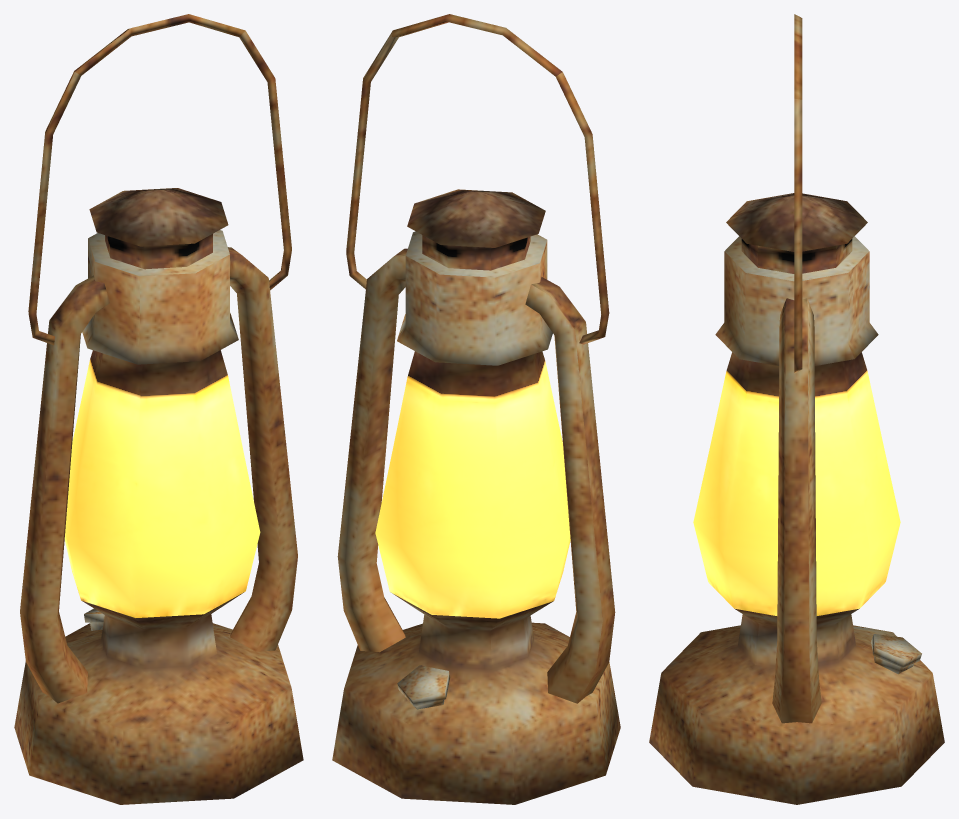
Rendered from Farol.fbx.
3 views of the same model, side by side, from view 1: azimuth 30°, elevation 25°; view 2: azimuth 150°, elevation 25°; view 3: azimuth 270°, elevation 25° (orthographic).
Parts seen in each view (by area): view 1: Farol, Farol_M; view 2: Farol, Farol_M; view 3: Farol, Farol_M.
Boxes of the visible parts, x1,y1,x2,y2 form: Farol: [14, 188, 303, 804]; Farol_M: [28, 14, 291, 345]; Farol: [332, 189, 620, 804]; Farol_M: [346, 14, 609, 344]; Farol: [649, 193, 944, 804]; Farol_M: [794, 14, 802, 373].
Size of the model in its own units: 21.5 by 55.96 by 20.98.
